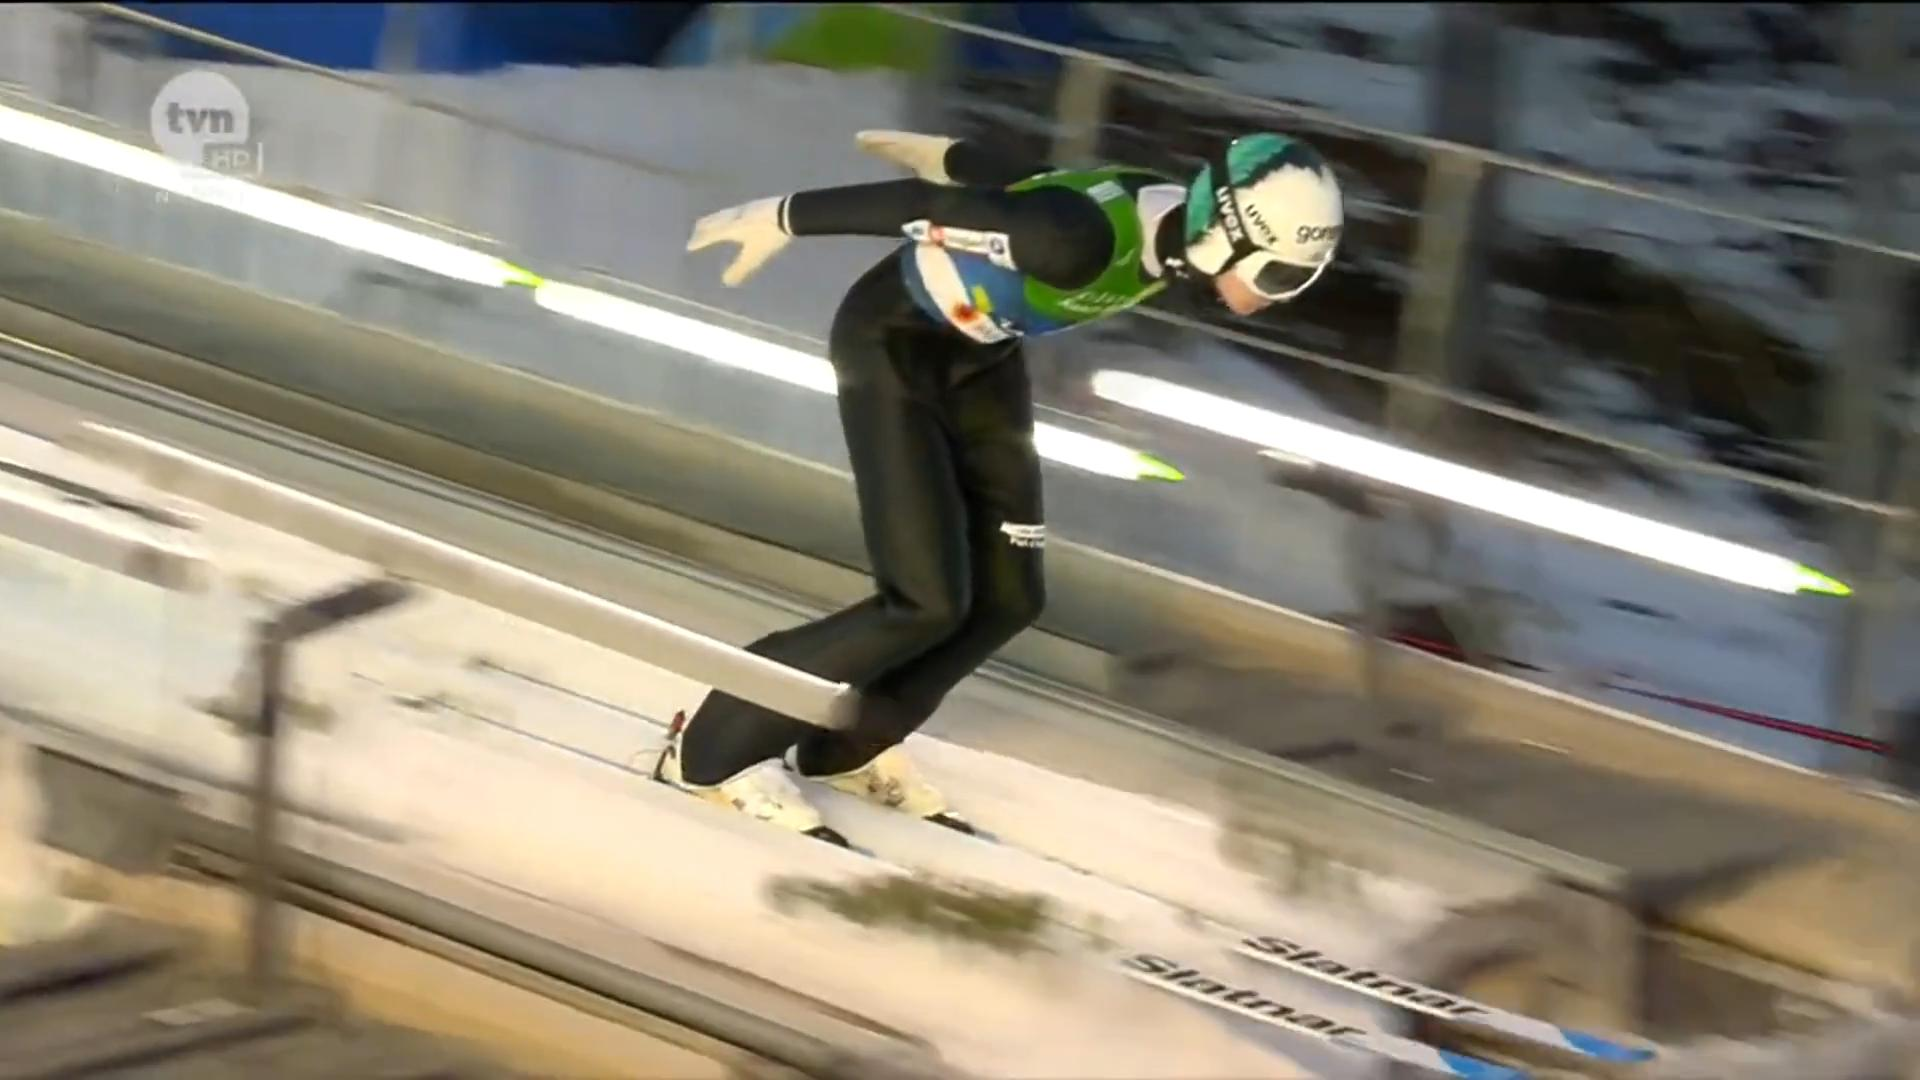prog: (1502, 829, 1853, 948)
